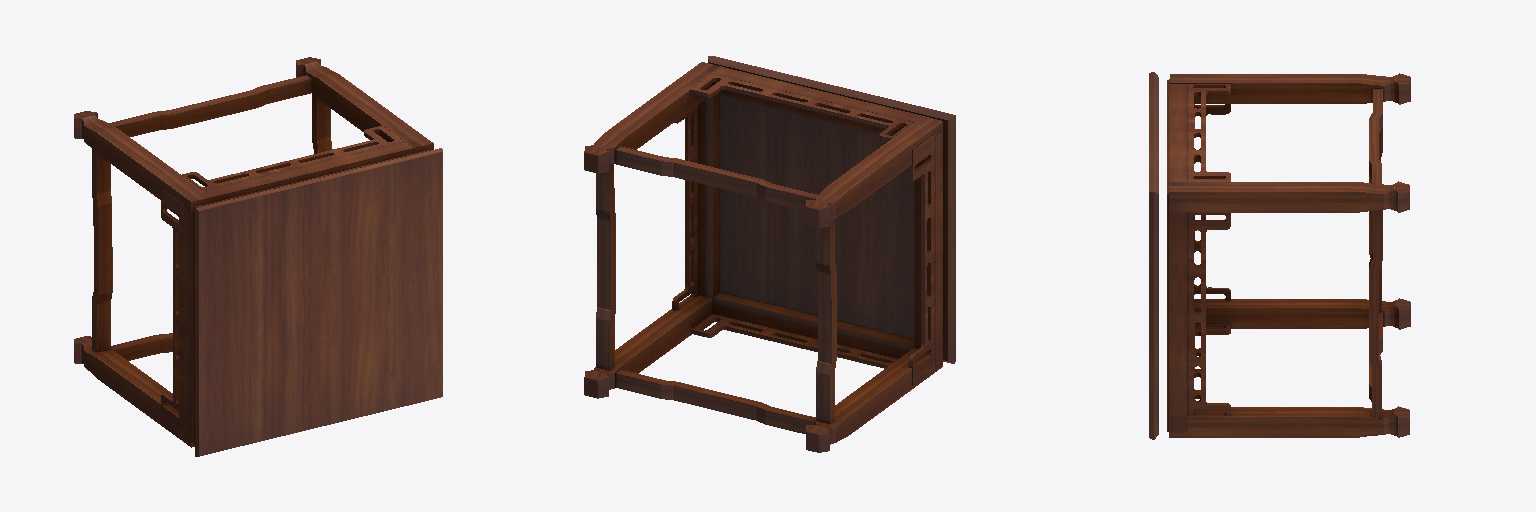
3 views of the same model, side by side, from view 1: azimuth 30°, elevation 25°; view 2: azimuth 150°, elevation 25°; view 3: azimuth 270°, elevation 25° (orthographic).
Size of the model in its own units: 0.6823 by 0.6544 by 0.6258.
Materials: 1 (1 with a texture image).